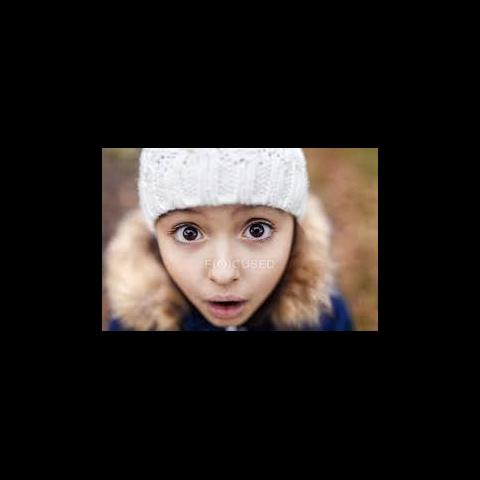opened: (161, 206, 283, 254)
